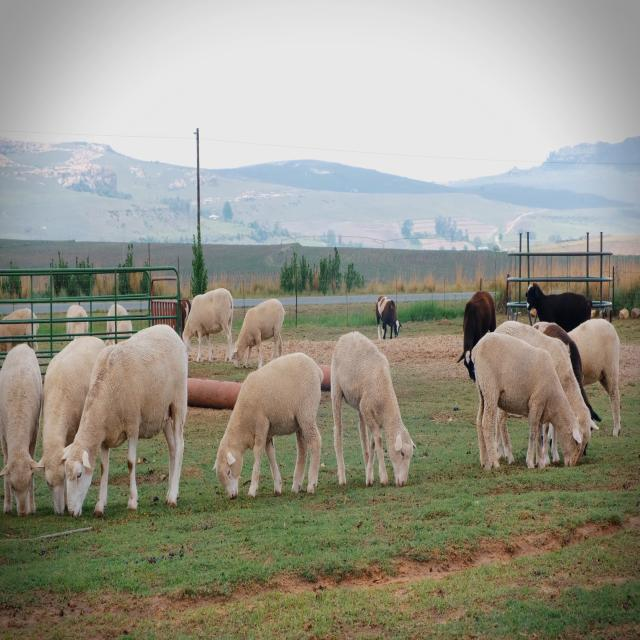sheep: (66, 317, 194, 551), (461, 327, 583, 494), (212, 348, 324, 510), (330, 326, 421, 500), (1, 343, 37, 525), (218, 302, 296, 372), (41, 338, 66, 519)
